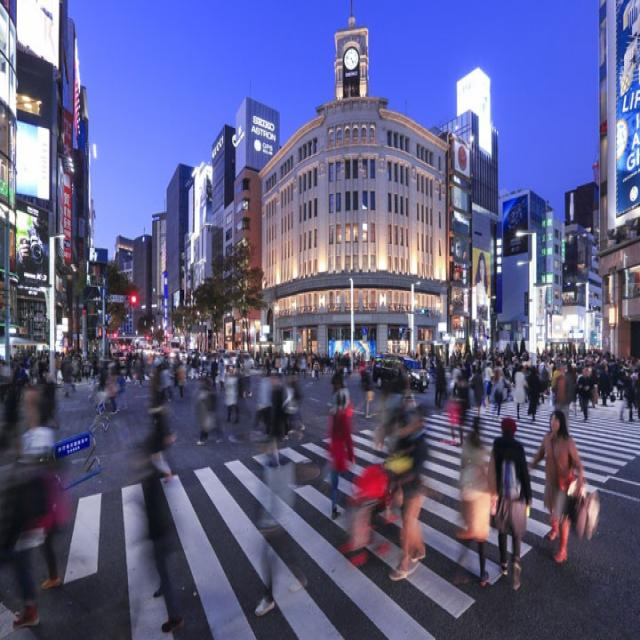body: (398, 337, 639, 424), (0, 330, 167, 415), (0, 384, 56, 629), (184, 333, 377, 401), (526, 404, 601, 567), (137, 407, 187, 636), (252, 425, 310, 617), (382, 389, 431, 581), (484, 414, 534, 594), (448, 410, 498, 590), (17, 408, 63, 590), (328, 385, 357, 523), (252, 400, 308, 470), (196, 373, 223, 448), (448, 380, 466, 449), (223, 362, 241, 424), (524, 364, 542, 423), (576, 367, 594, 423), (468, 364, 486, 419), (512, 364, 529, 422), (360, 366, 375, 420), (435, 362, 449, 410), (159, 361, 174, 403), (482, 360, 495, 406), (174, 358, 186, 398), (210, 354, 220, 390), (217, 357, 226, 391)
